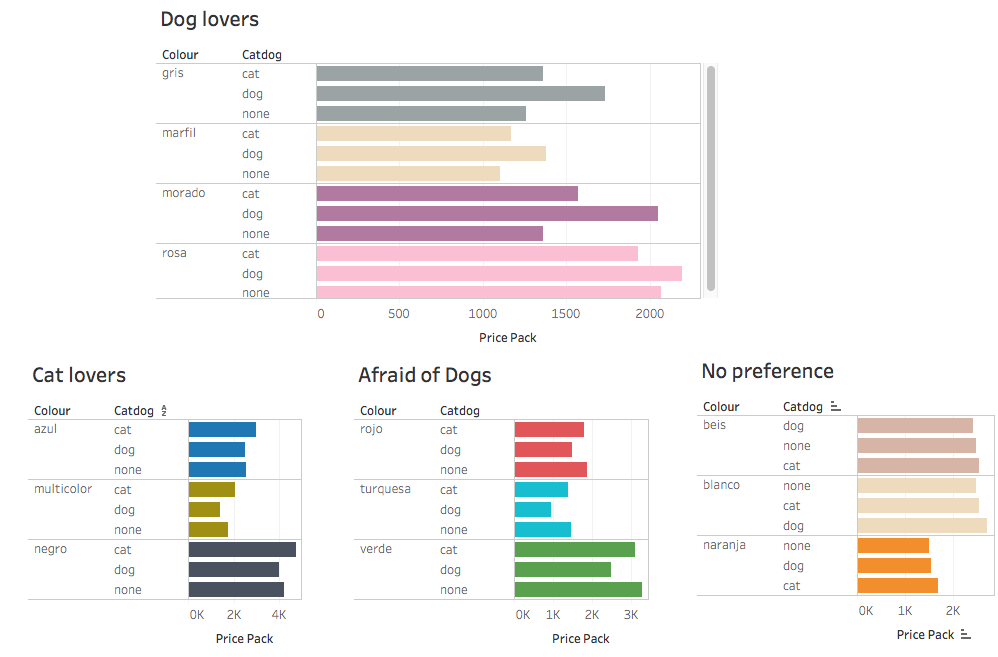

The page's visual inventory and layout, read from the dashboard file:
{"tool":"tableau","page":{"name":"ANIMALS","canvas":[1000,800],"ordinal":0},"visuals":[{"type":"worksheet","title":"dog","mark":"Automatic","rows":["colour","catdog"],"cols":["price_pack"],"box":[158,4,638,354]},{"type":"worksheet","title":"nodif","mark":"Automatic","rows":["colour","catdog"],"cols":["price_pack"],"box":[699,356,298,328]},{"type":"worksheet","title":"cat","mark":"Automatic","rows":["colour","catdog"],"cols":["price_pack"],"box":[30,360,274,301]},{"type":"worksheet","title":"not_dog","mark":"Automatic","rows":["colour","catdog"],"cols":["price_pack"],"box":[356,360,295,300]}]}

Visuals, with their boxes on the page's 1000x800 design canvas (x1, y1, x2, y2). These are canvas units, not pixel positions in the 998x657 screenshot, which may show the page scaled, cropped or inside an application window:
"dog" worksheet: BBox(158, 4, 796, 358)
"nodif" worksheet: BBox(699, 356, 997, 684)
"cat" worksheet: BBox(30, 360, 304, 661)
"not_dog" worksheet: BBox(356, 360, 651, 660)
